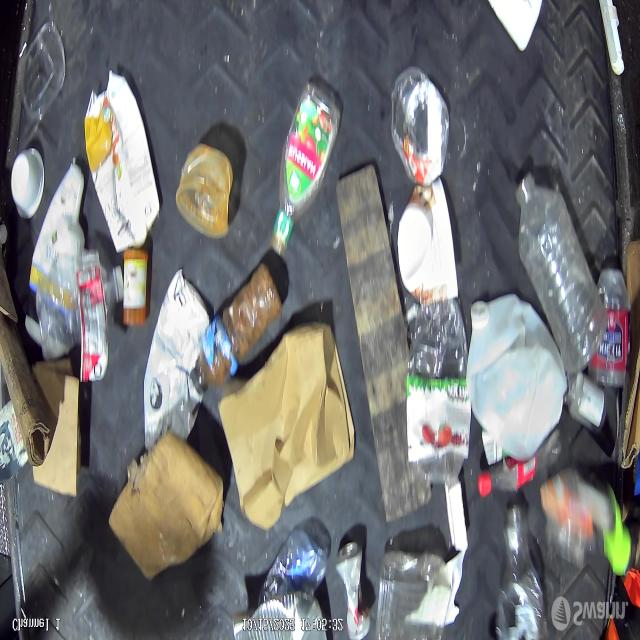can: (336, 542, 368, 640)
milk_jug: (468, 288, 564, 455)
plastic_bottle: (517, 170, 602, 369), (403, 294, 469, 488), (270, 82, 342, 257), (36, 264, 123, 355), (497, 519, 545, 640), (259, 534, 326, 615), (594, 257, 632, 392)
